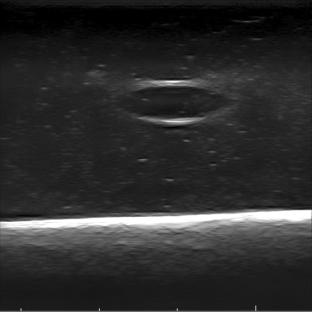vessel: (123, 80, 233, 125)
